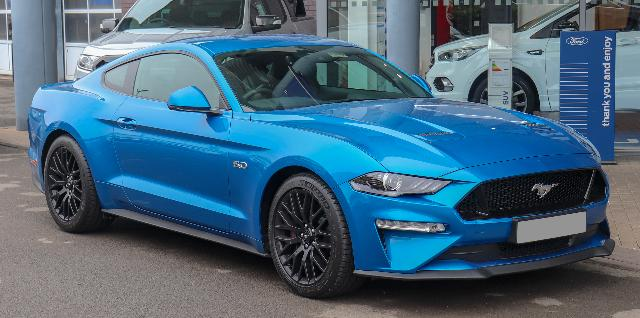ford-mustang: (27, 32, 617, 300)
